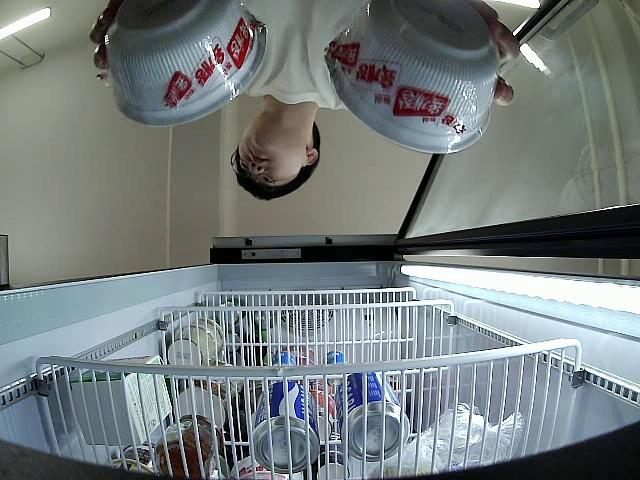00_hand: (463, 0, 518, 107), (87, 0, 119, 87)
09_yukGaeJang: (326, 0, 497, 154), (102, 0, 267, 125)
